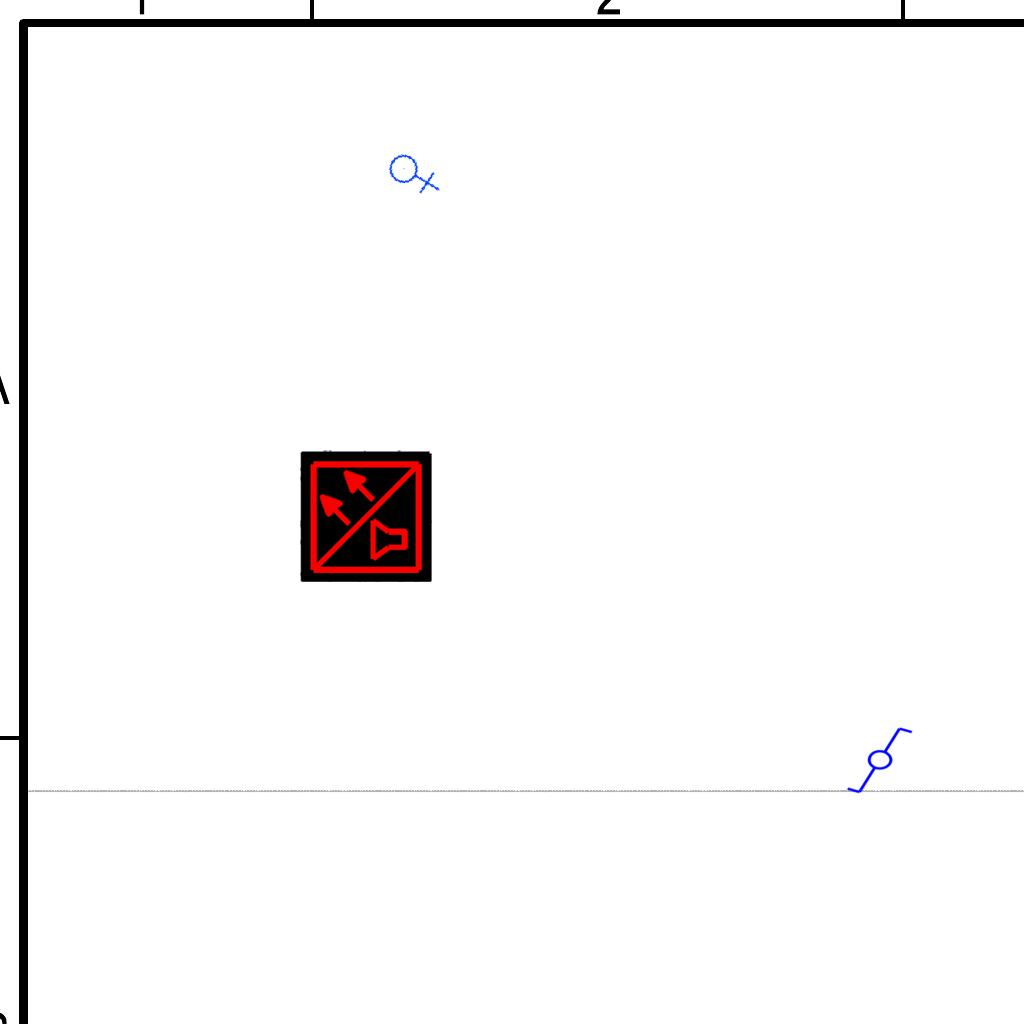Elektroanschluss_allgemein_230V_Geraeteanschlussdose_230V: (384, 142, 443, 203)
OKW_Multisensormelder_(Kombination_optischer_Rauch-Kahlenmonoxid_Waerme-Melder): (300, 450, 432, 582)
Wechselschalter: (845, 725, 923, 797)
